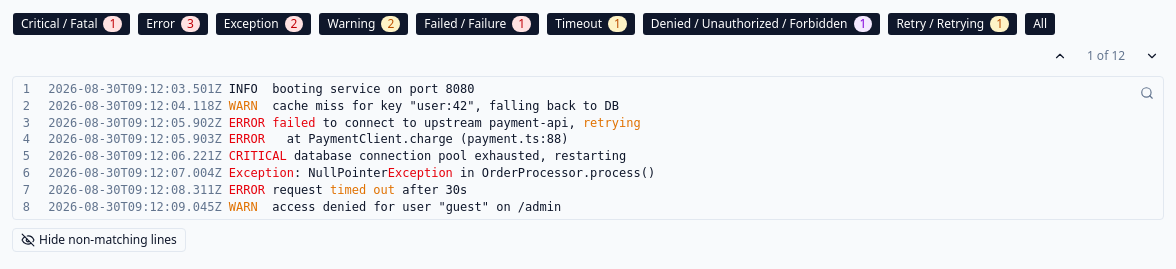
LogViewerWidget › toggling a pattern off removes its matches from the pooled navigator, toggling it back on restores them
Expected: the text "1 of 12" is shown, 1087,47 -> 1125,64
Click the button with aria-label "error (3)".
click(173, 24)  # box 137,12 -> 209,36
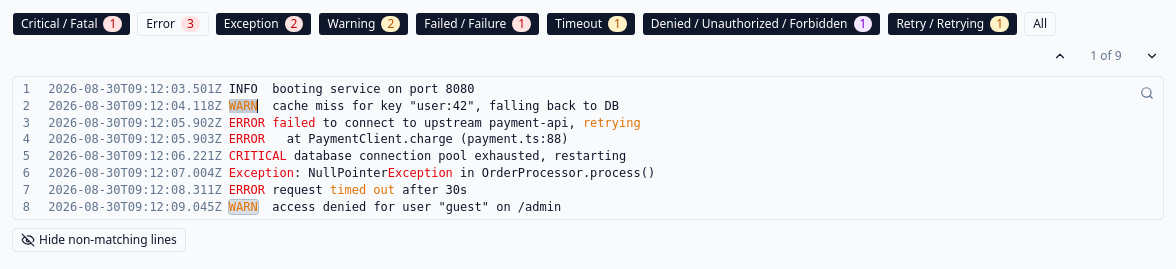
Expected: the text "1 of 9" is shown, 1090,47 -> 1122,64
Click the button with aria-label "error (3)".
click(173, 24)  # box 137,12 -> 209,36
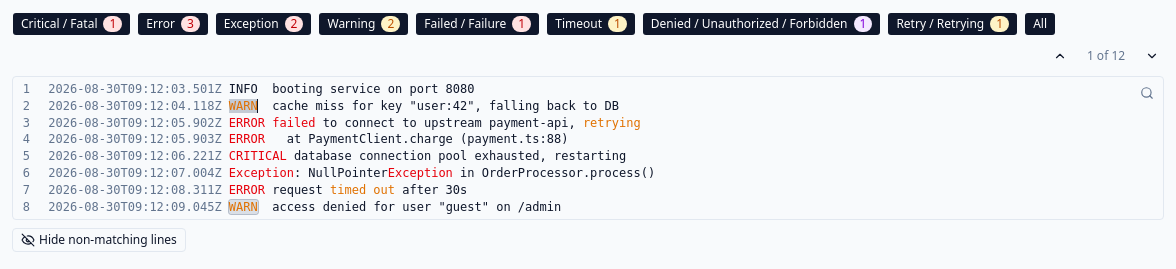
Expected: the text "1 of 12" is shown, 1087,47 -> 1125,64
